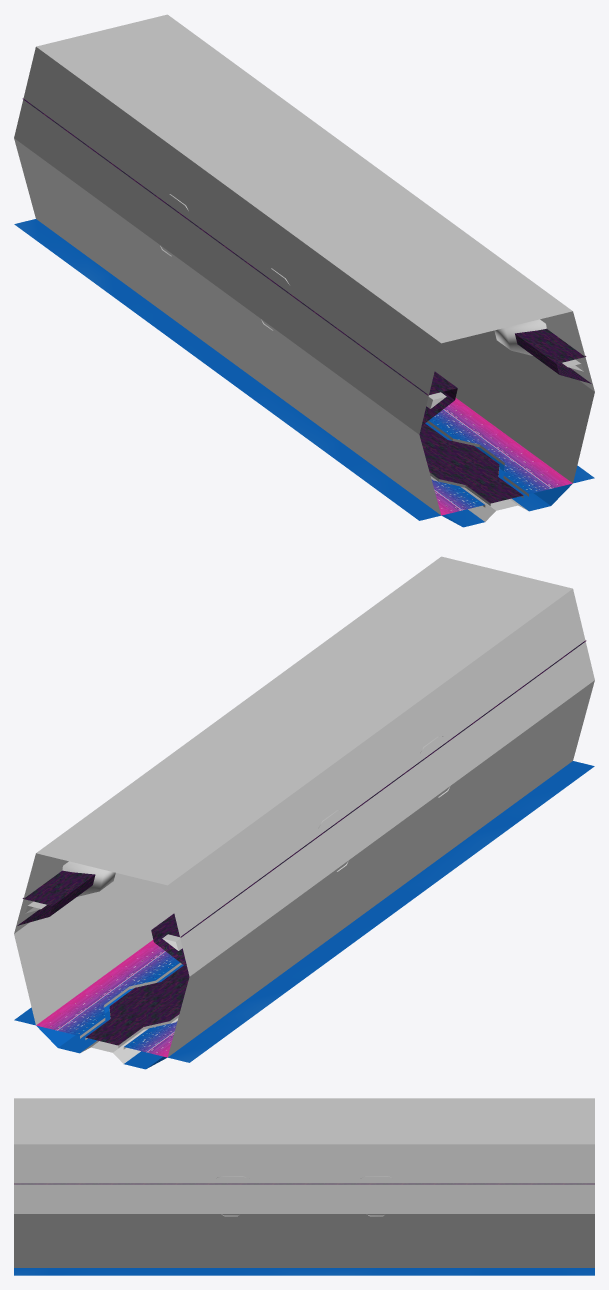
File: cbroad05.fbx
The picture shows the model from 3 angles, top to bottom: view 1: azimuth 30°, elevation 25°; view 2: azimuth 150°, elevation 25°; view 3: azimuth 270°, elevation 25°; orthographic projection. The views are drawn at different scales.
Parts seen in each view (by area): view 1: tower4, tower2, tower1, cbroad05, glass1, glass, glass3, nodule1, tower3; view 2: tower4, tower2, tower1, cbroad05, glass1, glass, glass3, nodule1, tower3; view 3: tower2, tower1, tower4, cbroad05, glass3.
Part boxes in pixels (<box>): tower4: <box>36,14,572,343</box>; tower2: <box>14,47,594,434</box>; tower1: <box>14,138,594,514</box>; cbroad05: <box>14,219,594,527</box>; glass1: <box>429,398,572,515</box>; glass: <box>419,423,523,503</box>; glass3: <box>22,98,591,425</box>; nodule1: <box>426,359,583,521</box>; tower3: <box>160,194,546,355</box>; tower4: <box>36,556,572,885</box>; tower2: <box>14,589,594,976</box>; tower1: <box>14,680,594,1056</box>; cbroad05: <box>14,761,594,1069</box>; glass1: <box>36,940,179,1057</box>; glass: <box>85,965,189,1045</box>; glass3: <box>17,640,586,967</box>; nodule1: <box>25,901,182,1063</box>; tower3: <box>62,736,450,896</box>; tower2: <box>14,1144,594,1213</box>; tower1: <box>14,1214,594,1267</box>; tower4: <box>14,1098,594,1144</box>; cbroad05: <box>14,1268,594,1275</box>; glass3: <box>14,1183,594,1184</box>.
Size of the model in its own units: 64 by 66 by 256.
